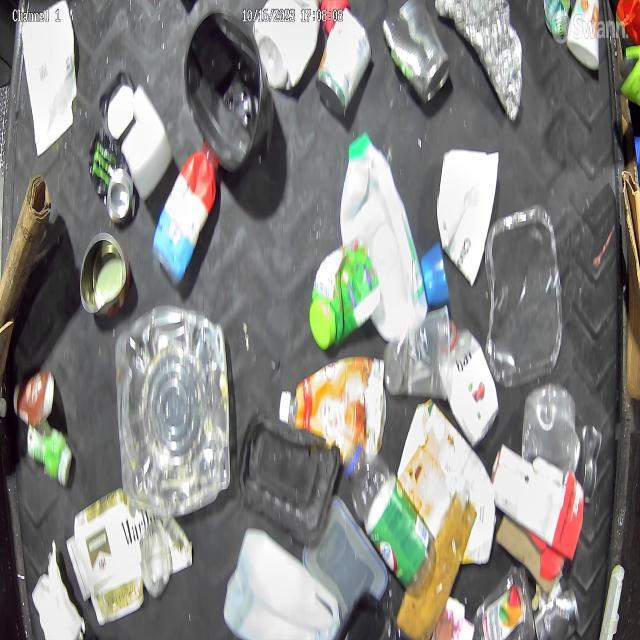can: (381, 0, 447, 93), (320, 3, 366, 111), (85, 132, 135, 220)
milk_jug: (340, 132, 426, 332), (225, 520, 340, 640)
non_white_jug: (278, 352, 386, 457), (160, 148, 213, 286)
plastic_bottle: (344, 438, 436, 582)
